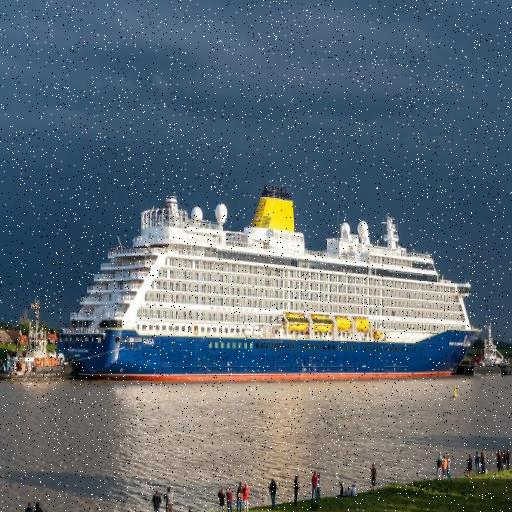cruises: (57, 184, 482, 393)
